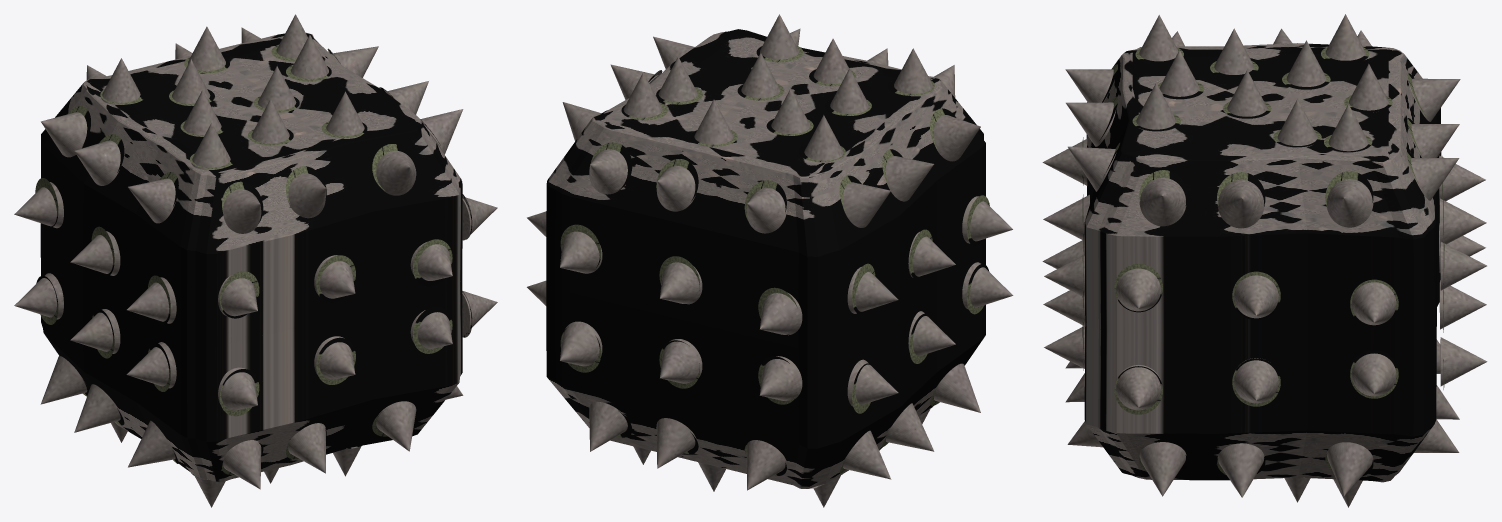
File: Spike_Block.fbx
3 renders of one model, left to right at view 1: azimuth 30°, elevation 25°; view 2: azimuth 150°, elevation 25°; view 3: azimuth 270°, elevation 25°, orthographic. The views are drawn at different scales.
Parts seen in each view (by area): view 1: AA_Block, Side_Spikes, Side_Holes; view 2: AA_Block, Side_Spikes, Side_Holes; view 3: AA_Block, Side_Spikes, Side_Holes.
Boxes of the visible parts, x1=… form: AA_Block: x1=40, y1=32, x2=462, y2=481; Side_Spikes: x1=14, y1=14, x2=497, y2=507; Side_Holes: x1=35, y1=44, x2=472, y2=479; AA_Block: x1=546, y1=29, x2=985, y2=488; Side_Spikes: x1=527, y1=14, x2=1013, y2=507; Side_Holes: x1=560, y1=45, x2=989, y2=475; AA_Block: x1=1084, y1=43, x2=1441, y2=482; Side_Spikes: x1=1042, y1=14, x2=1487, y2=507; Side_Holes: x1=1082, y1=47, x2=1444, y2=476.
Size of the model in its own units: 250 by 250 by 250.
1 material, 1 textured.
